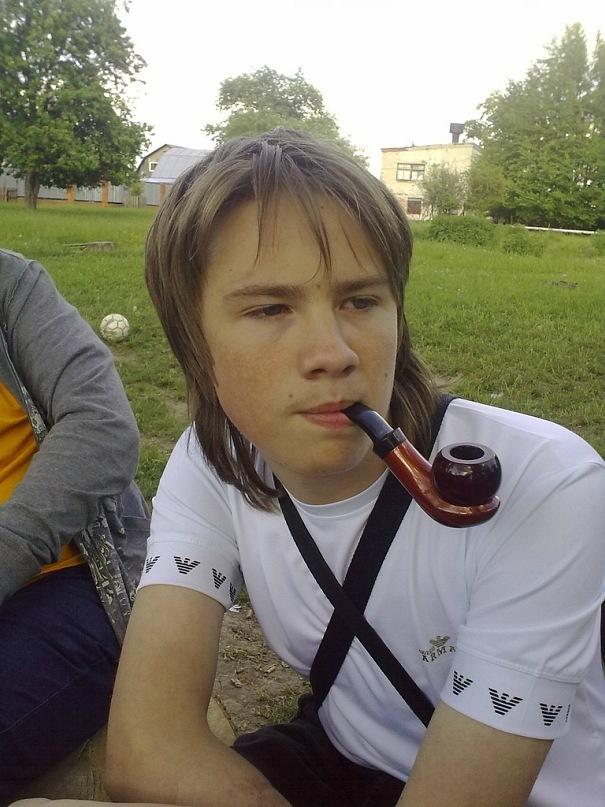trubka: (341, 404, 501, 527)
